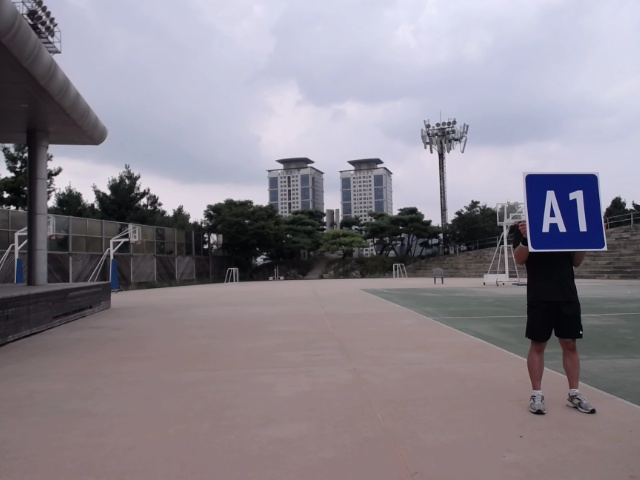delivery_a1: (525, 174, 605, 249)
